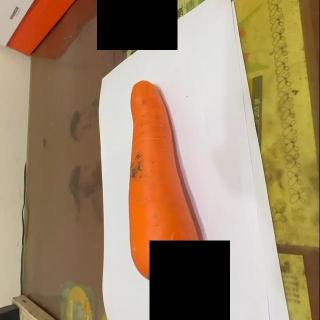carrot: (127, 80, 205, 304)
